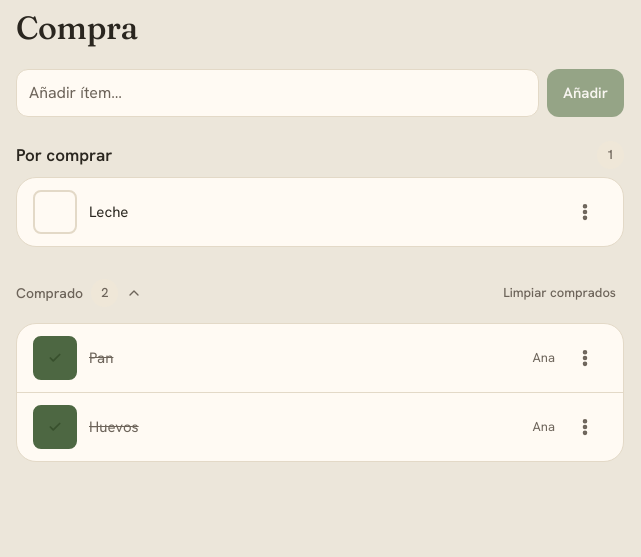
Test: CompraPage — Limpiar comprados › no borra en el primer toque: pide confirmación inline con el conteo
Expected: the text "Leche" is shown, [89,202,128,222]
Note: Un primer toque NO destruye: abre la confirmación inline.
Click the button "Limpiar comprados": (560, 293) [495,279,624,307]
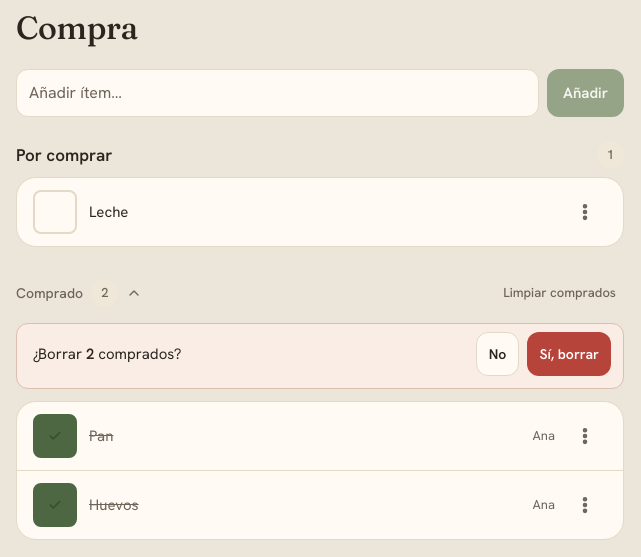
Expected: the element named "Confirmar borrado de 2 comprados" is shown, [16,324,624,390]
Expected: the button "Sí, borrar" is shown, [527,332,611,376]
